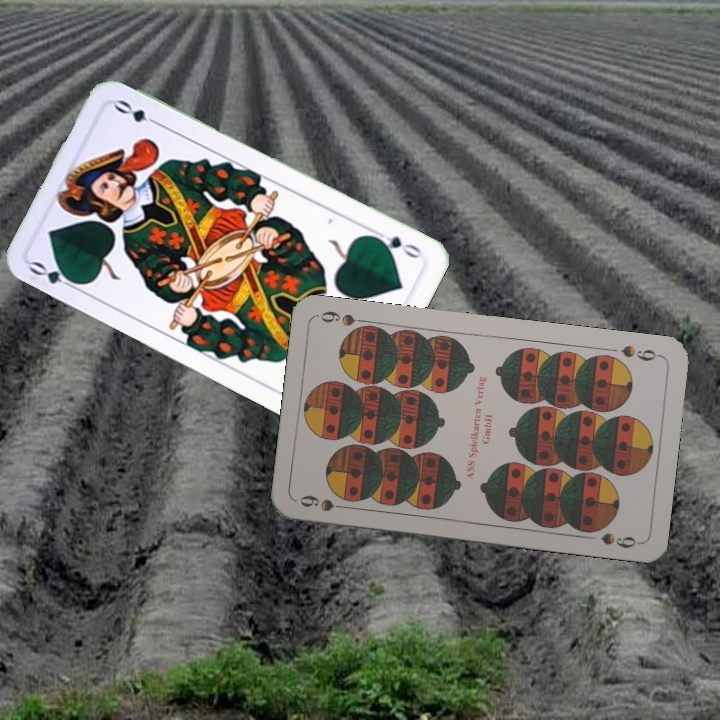GO: (25, 257, 84, 294), (368, 225, 424, 261)
S9: (296, 491, 354, 514), (617, 341, 663, 364)
